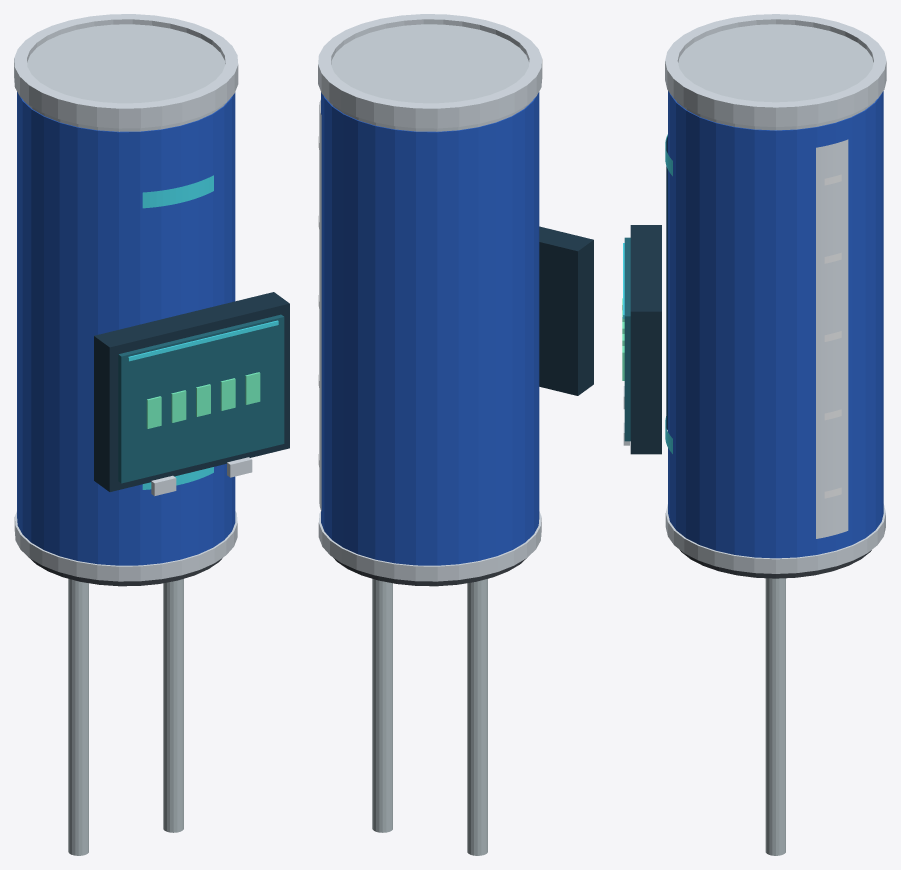
The model's file is capacitor1.fbx.
The picture shows the model from 3 angles, left to right: view 1: azimuth 30°, elevation 25°; view 2: azimuth 150°, elevation 25°; view 3: azimuth 270°, elevation 25°; orthographic projection.
Visible parts, largest first — view 1: Capacitor_Body_Blue, Display_Glass, Capacitor_Top_Silver, Display_Frame, Top_Rim, Terminal_Positive_Lead, Terminal_Negative_Lead, Bottom_Rim, Label_Top_Cyan_Band, Capacitor_Bottom_Rubber, Display_Cyan_Topline; view 2: Capacitor_Body_Blue, Capacitor_Top_Silver, Top_Rim, Display_Frame, Terminal_Positive_Lead, Terminal_Negative_Lead, Bottom_Rim, Negative_Polarity_Stripe, Capacitor_Bottom_Rubber; view 3: Capacitor_Body_Blue, Capacitor_Top_Silver, Negative_Polarity_Stripe, Top_Rim, Display_Frame, Terminal_Negative_Lead, Bottom_Rim, Display_Glass, Capacitor_Bottom_Rubber, Label_Dark_Panel.
Boxes of the visible parts, x1,y1,x2,y2 form: Capacitor_Body_Blue: (17, 92, 235, 565); Display_Glass: (118, 314, 284, 483); Capacitor_Top_Silver: (23, 24, 229, 131); Display_Frame: (94, 292, 289, 491); Top_Rim: (14, 14, 238, 128); Terminal_Positive_Lead: (68, 579, 88, 855); Terminal_Negative_Lead: (163, 579, 183, 832); Bottom_Rim: (14, 511, 237, 581); Label_Top_Cyan_Band: (142, 175, 213, 208); Capacitor_Bottom_Rubber: (28, 557, 222, 586); Display_Cyan_Topline: (128, 320, 278, 361); Capacitor_Body_Blue: (321, 92, 539, 565); Capacitor_Top_Silver: (326, 24, 533, 131); Top_Rim: (318, 14, 542, 128); Display_Frame: (539, 226, 593, 395); Terminal_Positive_Lead: (467, 579, 487, 855); Terminal_Negative_Lead: (372, 579, 392, 832); Bottom_Rim: (318, 511, 541, 581); Negative_Polarity_Stripe: (319, 100, 321, 511); Capacitor_Bottom_Rubber: (333, 557, 526, 586); Capacitor_Body_Blue: (668, 91, 883, 558); Capacitor_Top_Silver: (675, 24, 875, 130); Negative_Polarity_Stripe: (816, 139, 848, 538); Top_Rim: (665, 14, 886, 126); Display_Frame: (630, 225, 661, 454); Terminal_Negative_Lead: (765, 578, 785, 855); Bottom_Rim: (665, 504, 885, 573); Display_Glass: (624, 237, 630, 441); Capacitor_Bottom_Rubber: (680, 550, 871, 578); Label_Dark_Panel: (666, 136, 667, 430).
Bounding box in the file's own units: 1.03 × 3.93 × 1.22.
